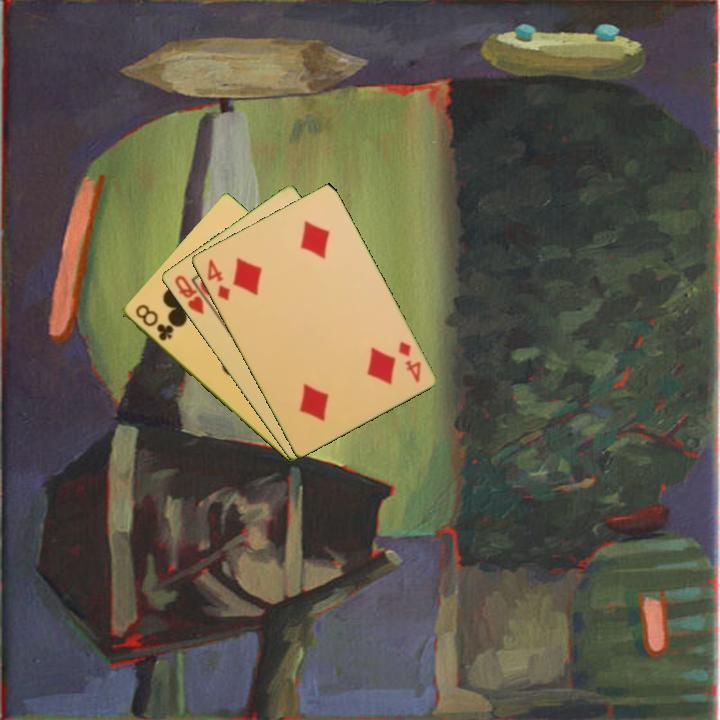4d: (203, 255, 233, 303), (394, 338, 423, 386)
8c: (131, 301, 176, 344)
Qh: (171, 271, 207, 317)
